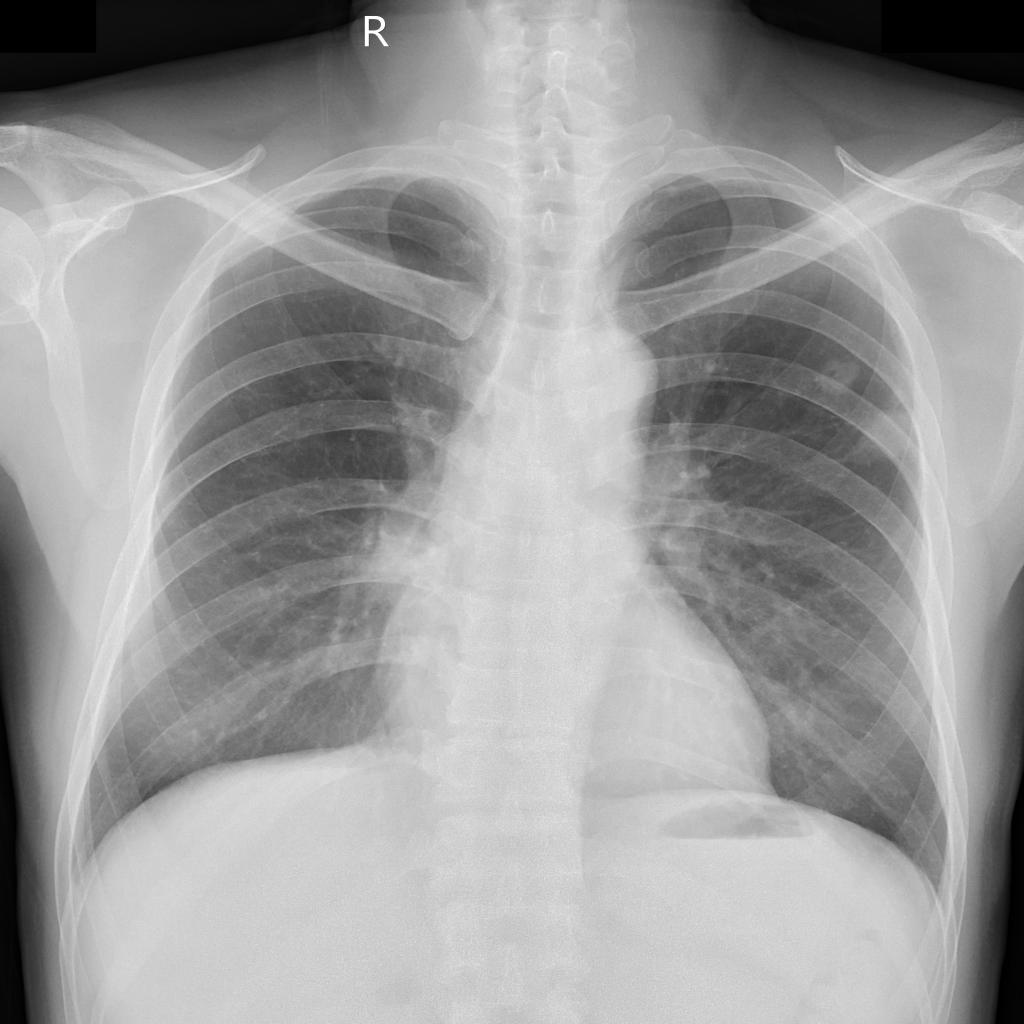Nodule: (852, 412, 912, 458), (815, 357, 859, 390)
